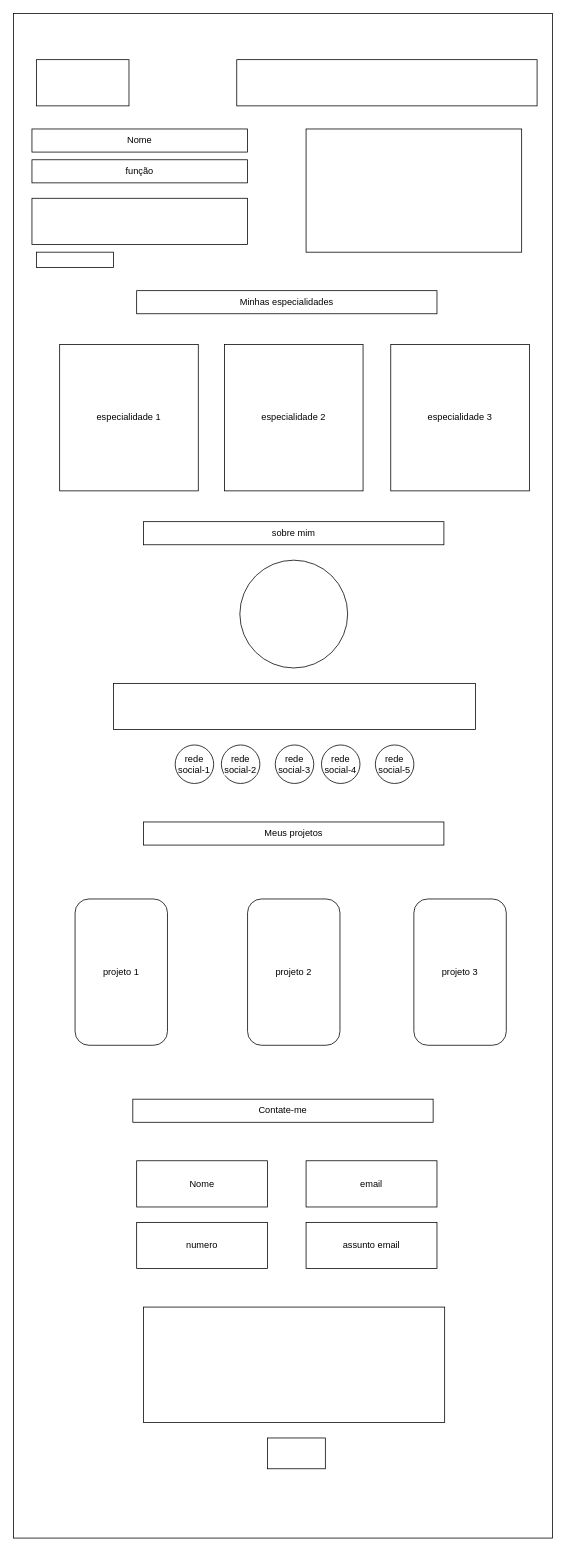
Some shapes in this 566 by 1552 pixel diagram are drawn without their labels. The centre of each missing label's shape, as x and y in pixels:
Barra de navegação: pixel 386 82
botao de contato: pixel 75 259
enviar: pixel 296 1453
imagem 1: pixel 413 190
imagem 2: pixel 293 613
Logo: pixel 82 82
texto aprofundado sobre mim: pixel 294 706
texto de abresentação breve: pixel 139 221
texto do email: pixel 294 1364
